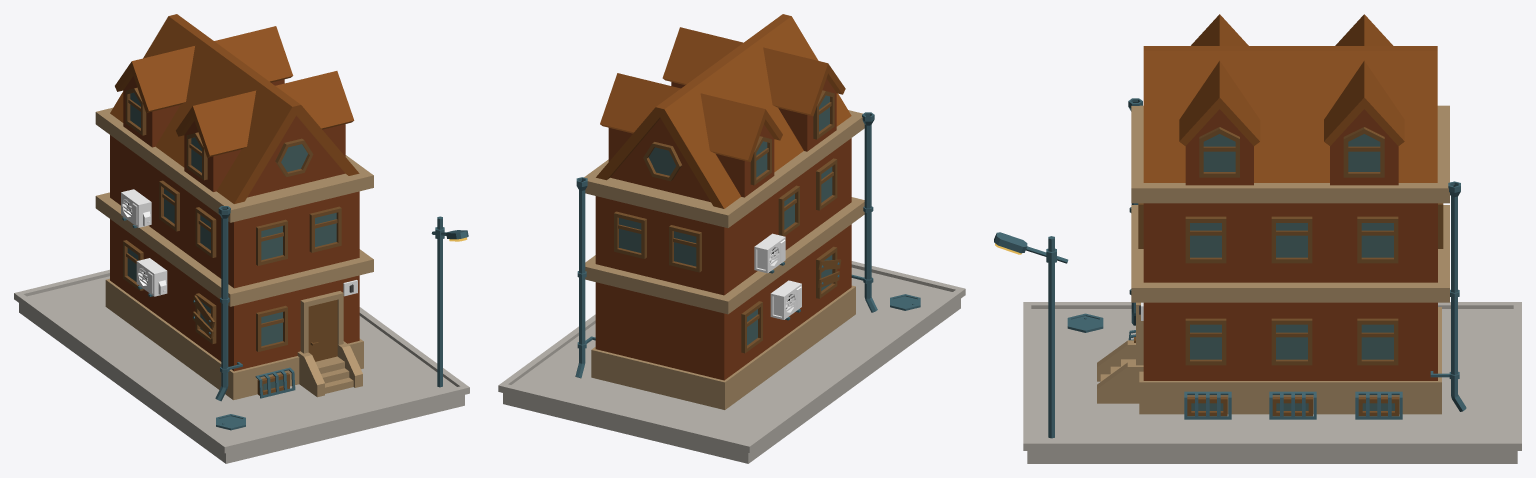
The model's file is scene_Ddgwb1qbhO.glb.
3 renders of one model, left to right at view 1: azimuth 30°, elevation 25°; view 2: azimuth 150°, elevation 25°; view 3: azimuth 270°, elevation 25°, orthographic. The views are drawn at different scales.
Parts seen in each view (by area): view 1: Plane091, Box15826, Group654, Box15824, Box15853, Rectangle022, Box15825, Box15829, Box15854, Object330, StraightStair011, Box15827 (+17 smaller); view 2: Plane091, Box15826, Box15853, Box15824, Group654, Box15829, Rectangle022, Box15825, Box15854, Object330, Box15834, Cylinder1703 (+13 smaller); view 3: Plane091, Box15826, Box15824, Box15853, Rectangle022, Object330, Group654, Box15825, Box15854, Box15829, StraightStair011, Box15828 (+15 smaller).
Boxes of the visible parts, left/top/right/bottom form: Plane091: left=19, top=276, right=464, bottom=463; Box15826: left=110, top=14, right=359, bottom=203; Group654: left=115, top=26, right=354, bottom=157; Box15824: left=110, top=135, right=359, bottom=288; Box15853: left=110, top=219, right=359, bottom=371; Rectangle022: left=14, top=269, right=469, bottom=453; Box15825: left=95, top=107, right=373, bottom=222; Box15829: left=105, top=278, right=363, bottom=400; Box15854: left=95, top=192, right=373, bottom=306; Object330: left=127, top=92, right=336, bottom=390; StraightStair011: left=297, top=341, right=362, bottom=397; Box15827: left=308, top=299, right=337, bottom=361; Plane091: left=503, top=267, right=960, bottom=463; Box15826: left=596, top=14, right=851, bottom=208; Box15853: left=595, top=224, right=851, bottom=380; Box15824: left=595, top=138, right=851, bottom=295; Group654: left=600, top=27, right=845, bottom=162; Box15829: left=591, top=285, right=855, bottom=409; Rectangle022: left=498, top=261, right=965, bottom=452; Box15825: left=584, top=110, right=864, bottom=227; Box15854: left=585, top=197, right=864, bottom=314; Object330: left=619, top=95, right=832, bottom=345; Box15834: left=608, top=124, right=774, bottom=197; Cylinder1703: left=862, top=112, right=877, bottom=312; Plane091: left=1027, top=309, right=1517, bottom=463; Box15826: left=1143, top=46, right=1437, bottom=182; Box15824: left=1143, top=203, right=1437, bottom=282; Box15853: left=1143, top=302, right=1437, bottom=380; Rectangle022: left=1023, top=302, right=1521, bottom=450; Object330: left=1190, top=134, right=1394, bottom=410; Group654: left=1179, top=14, right=1404, bottom=145; Box15825: left=1131, top=105, right=1449, bottom=203; Box15854: left=1131, top=205, right=1449, bottom=302; Box15829: left=1139, top=307, right=1441, bottom=414; StraightStair011: left=1097, top=340, right=1143, bottom=403; Box15828: left=1185, top=109, right=1253, bottom=185.
Bounding box in the file's own units: 8.2 × 9.36 × 12.91.
